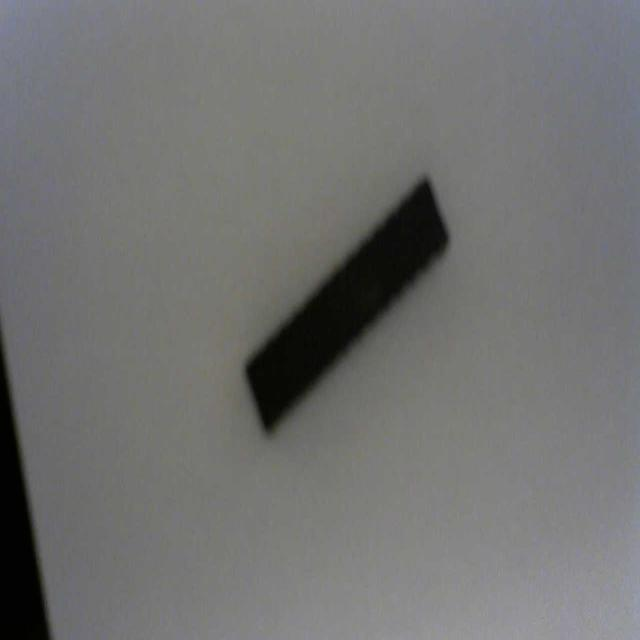atmega: (241, 170, 451, 438)
